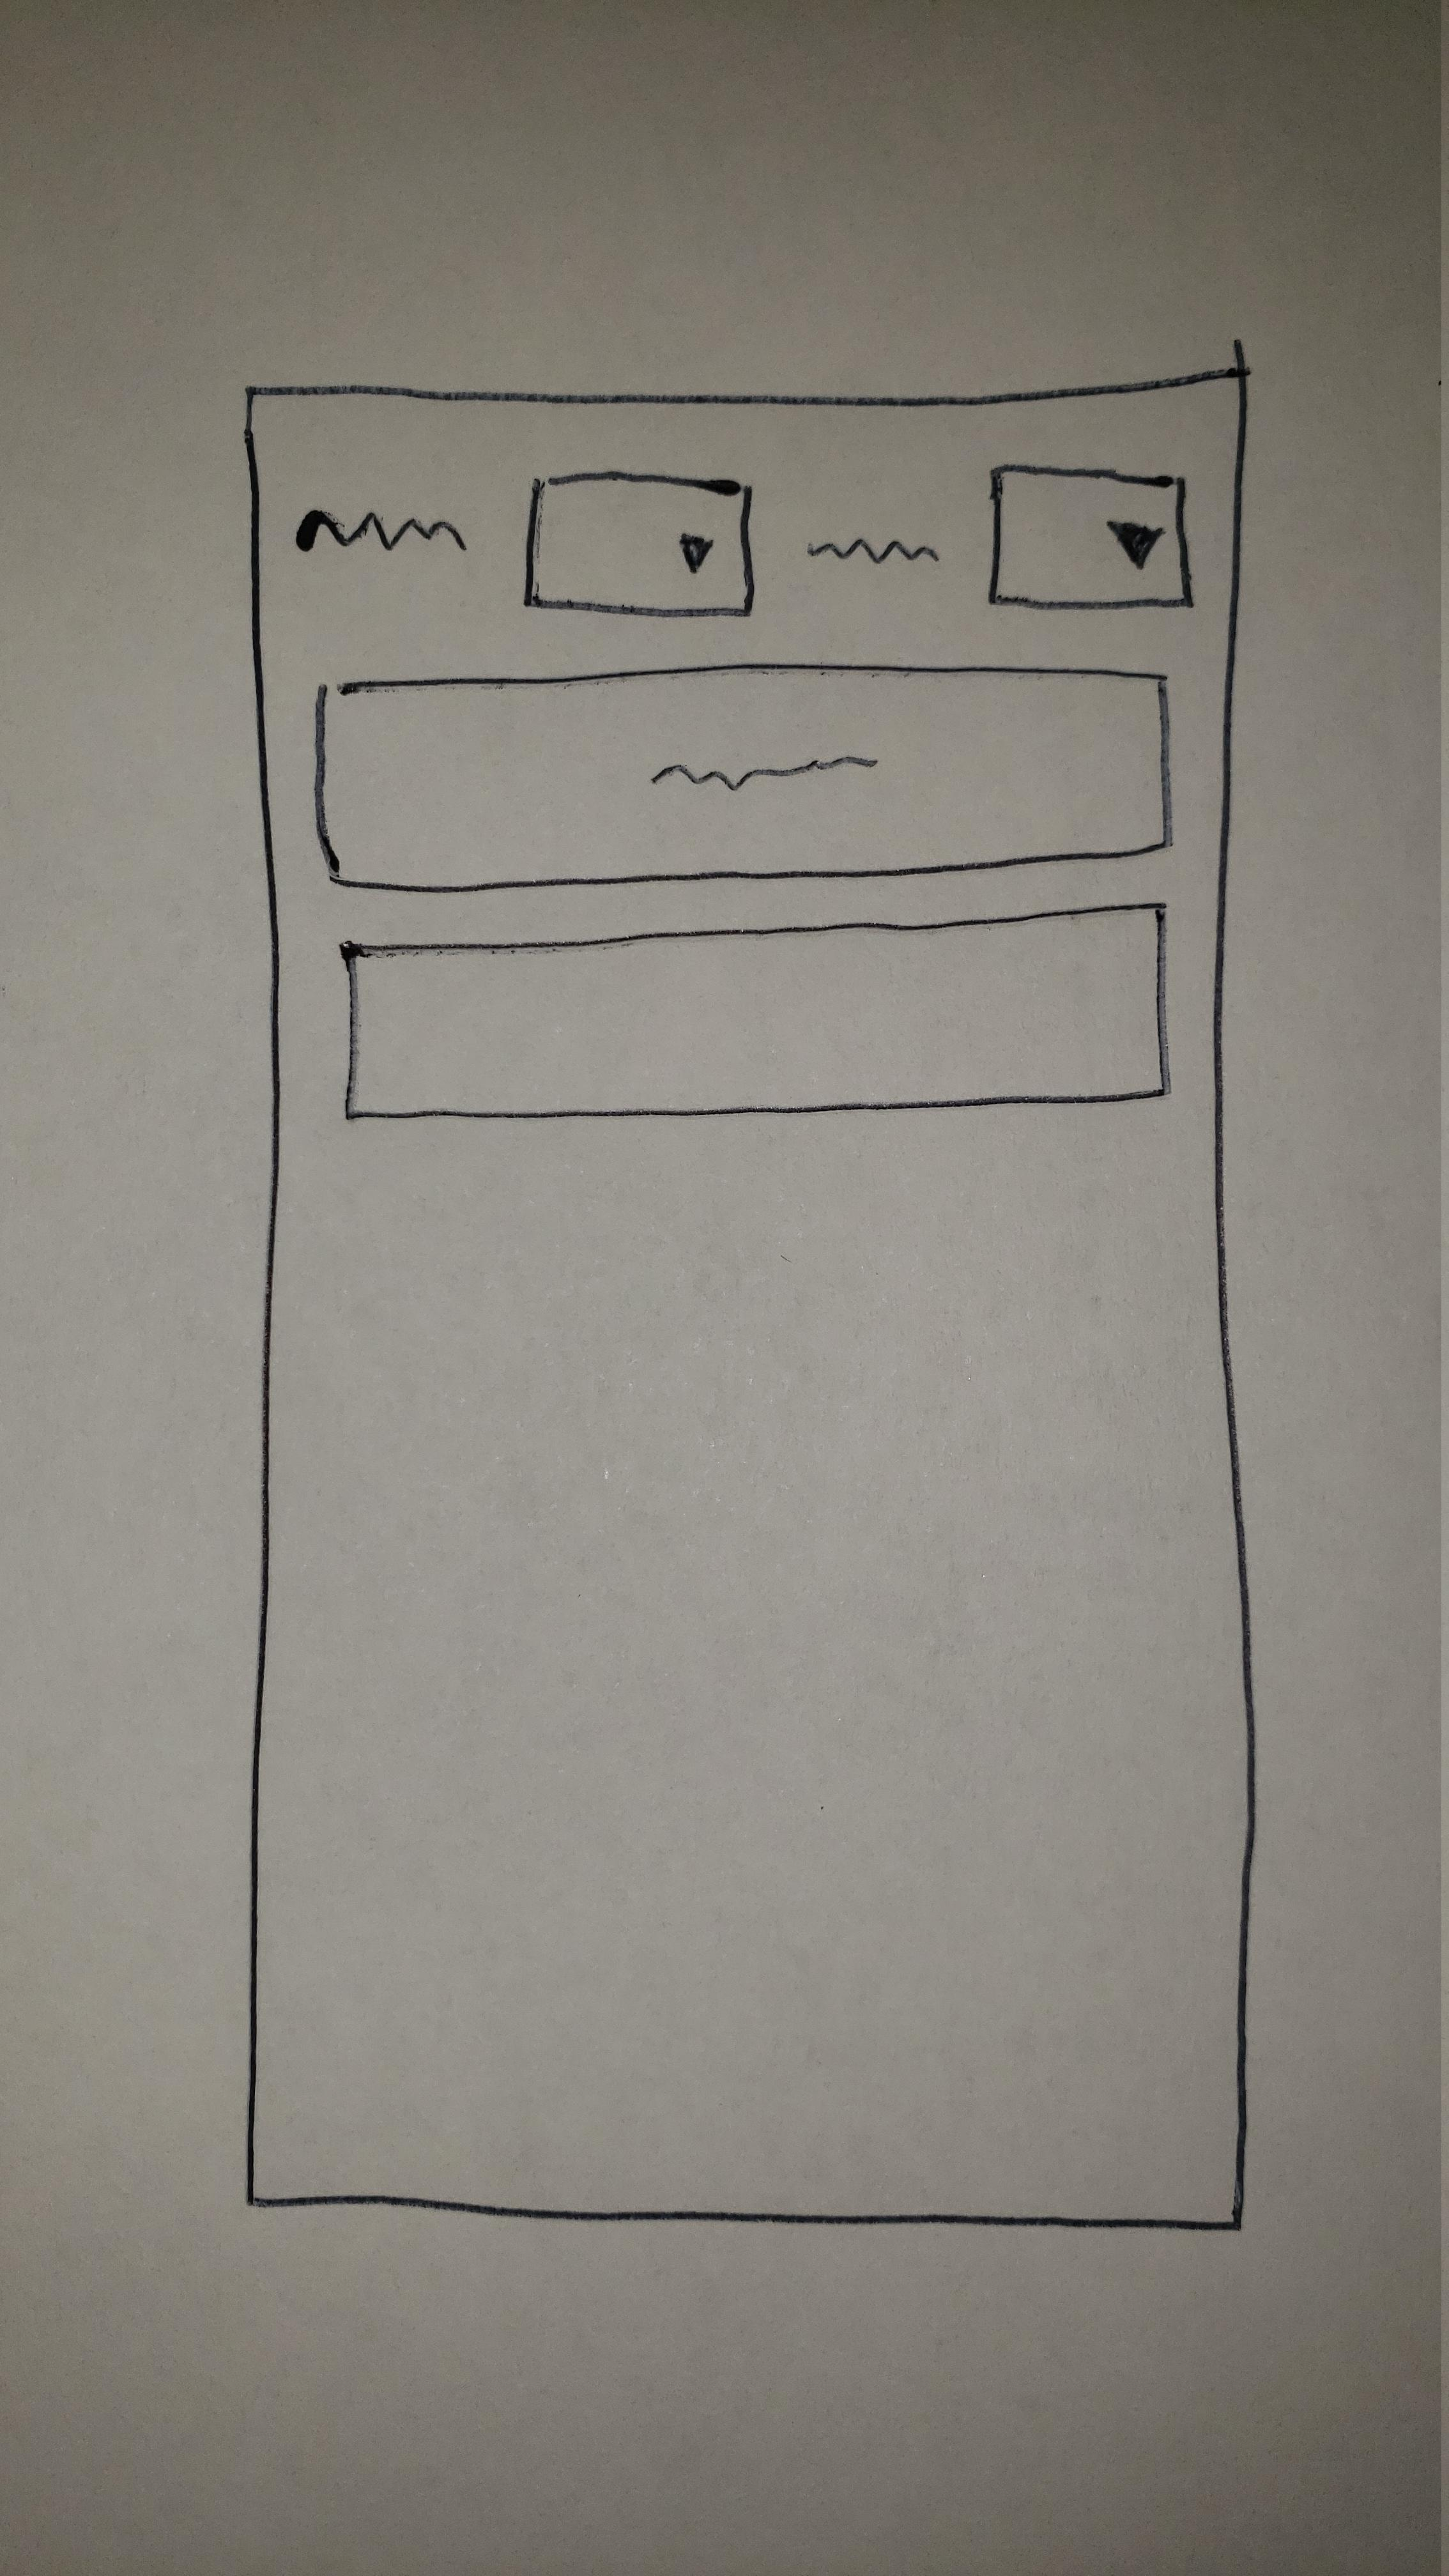Button: (313, 663, 1171, 892)
Label: (294, 508, 464, 556), (807, 533, 939, 566)
ListPicker: (522, 469, 757, 619), (987, 462, 1192, 610)
Screen: (242, 361, 1258, 2231)
TextBox: (340, 901, 1169, 1123)
